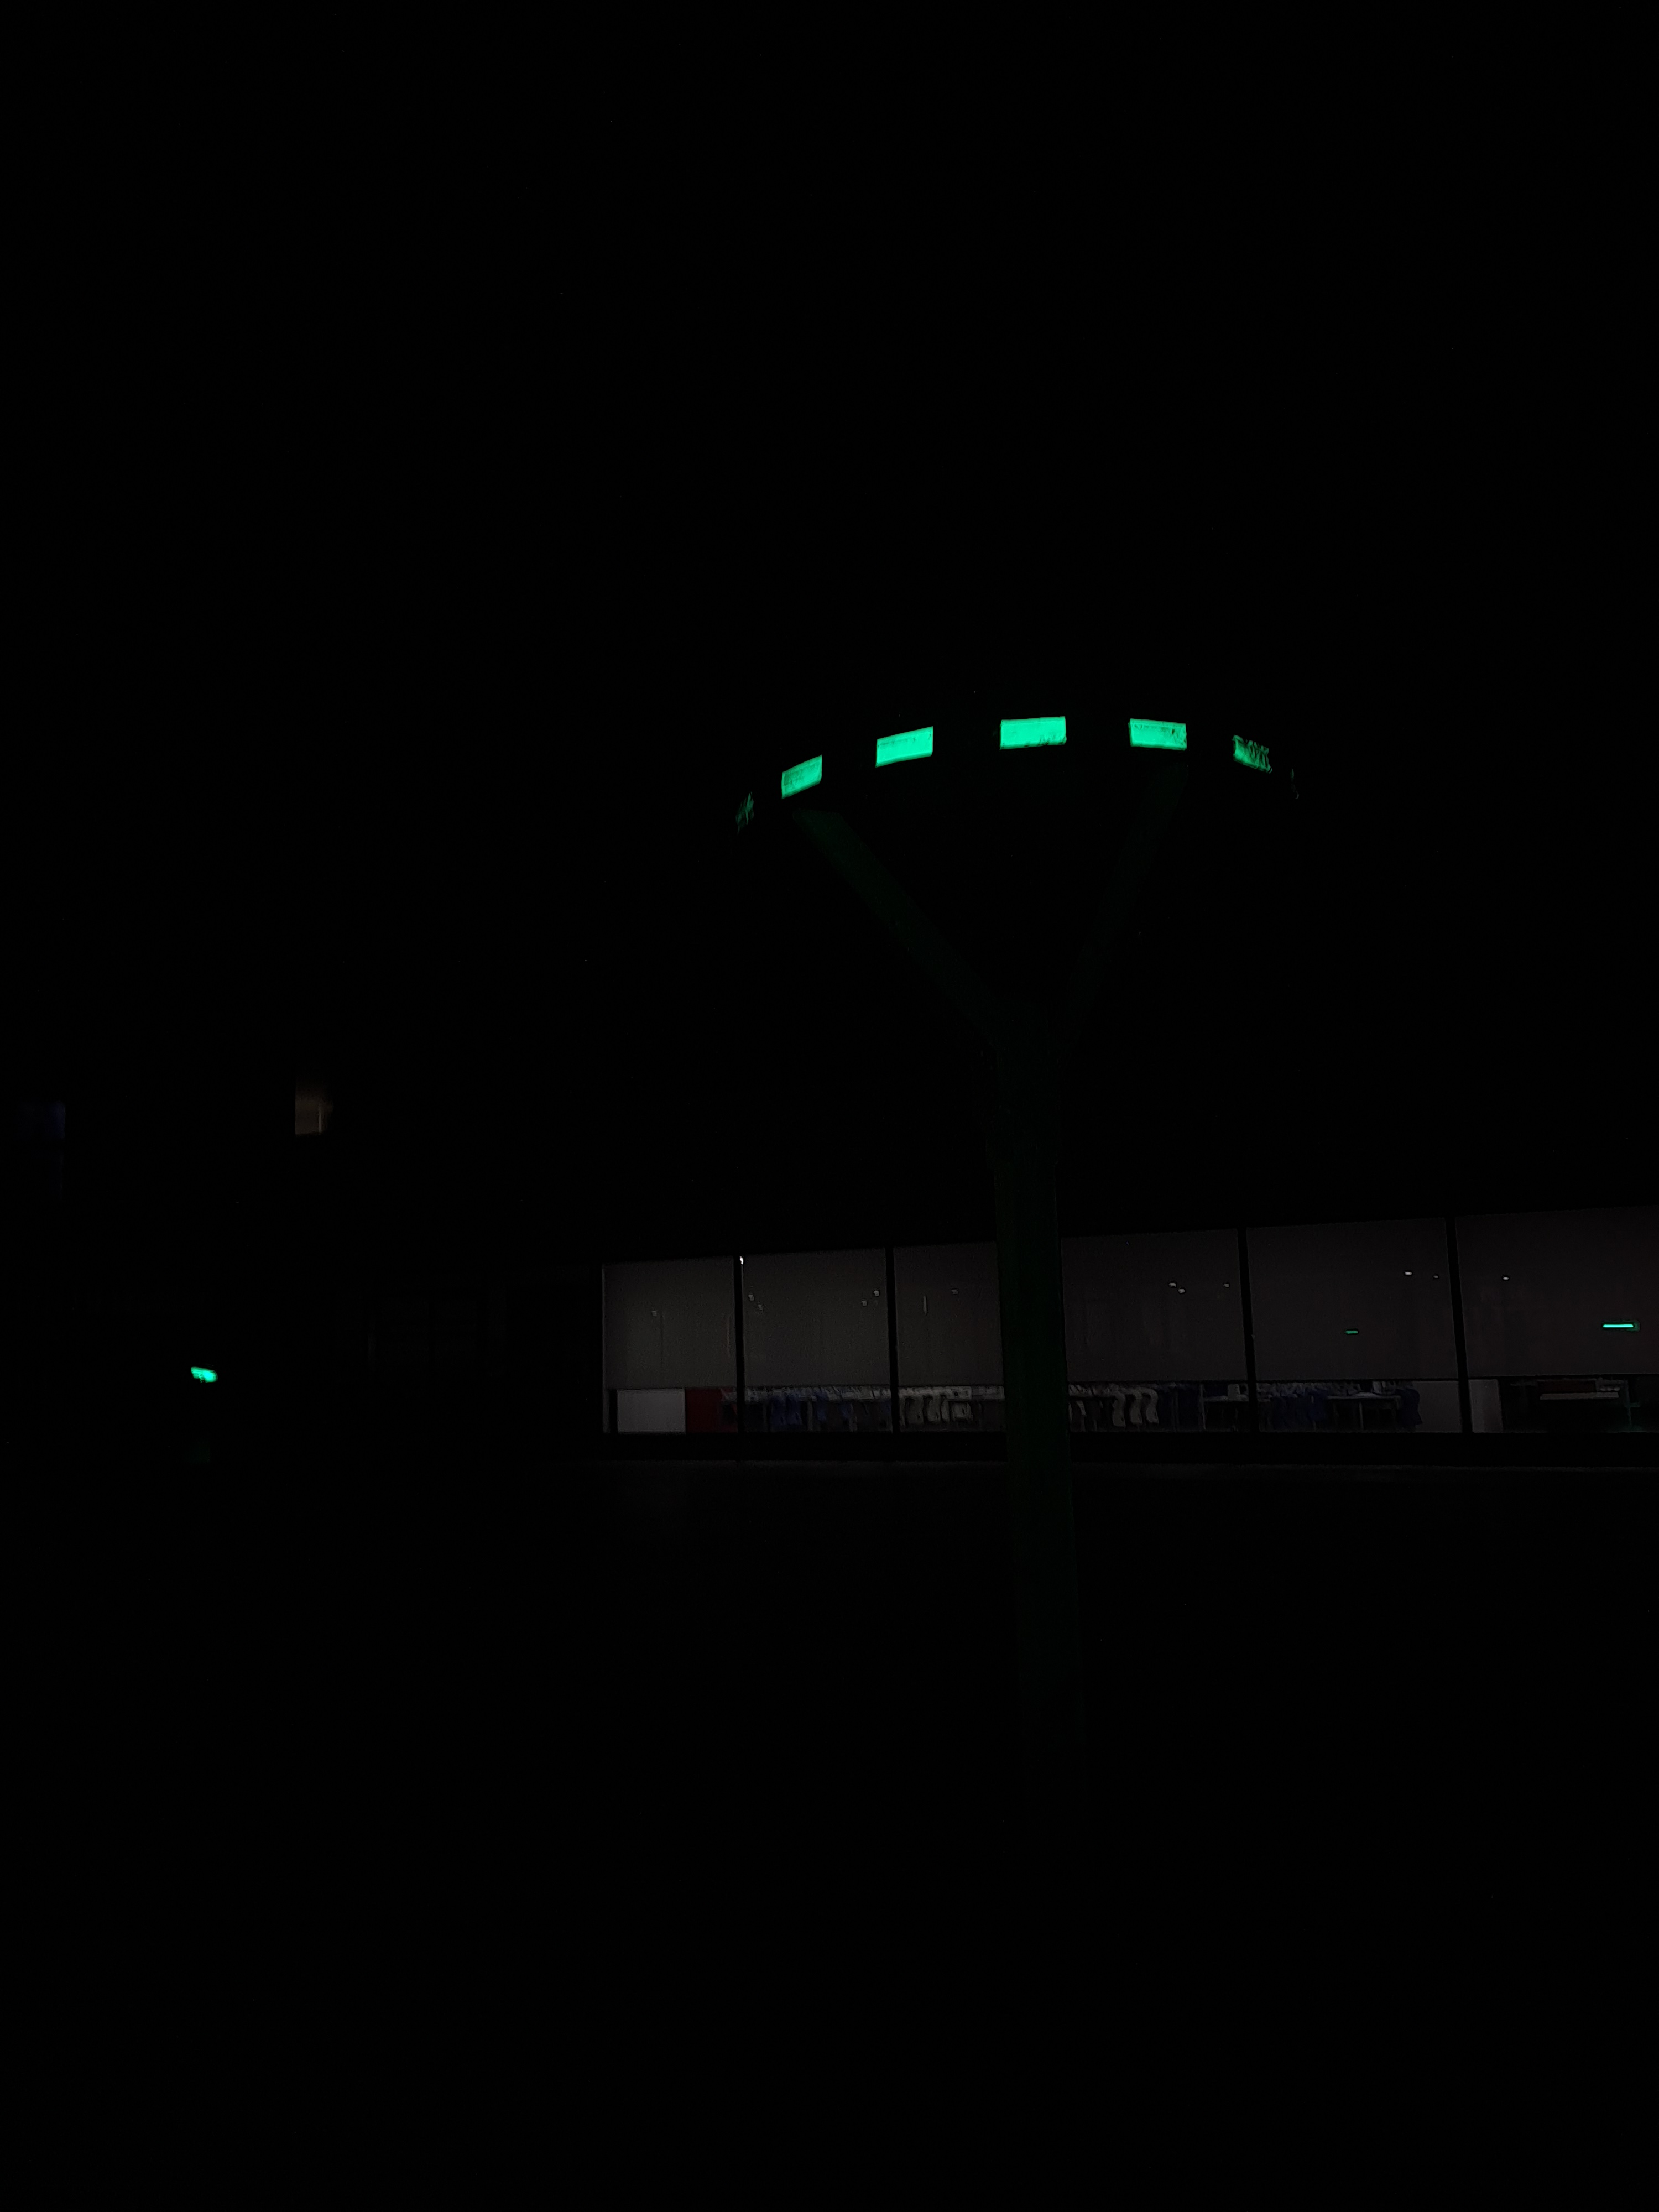hoop: (772, 707, 1279, 798)
